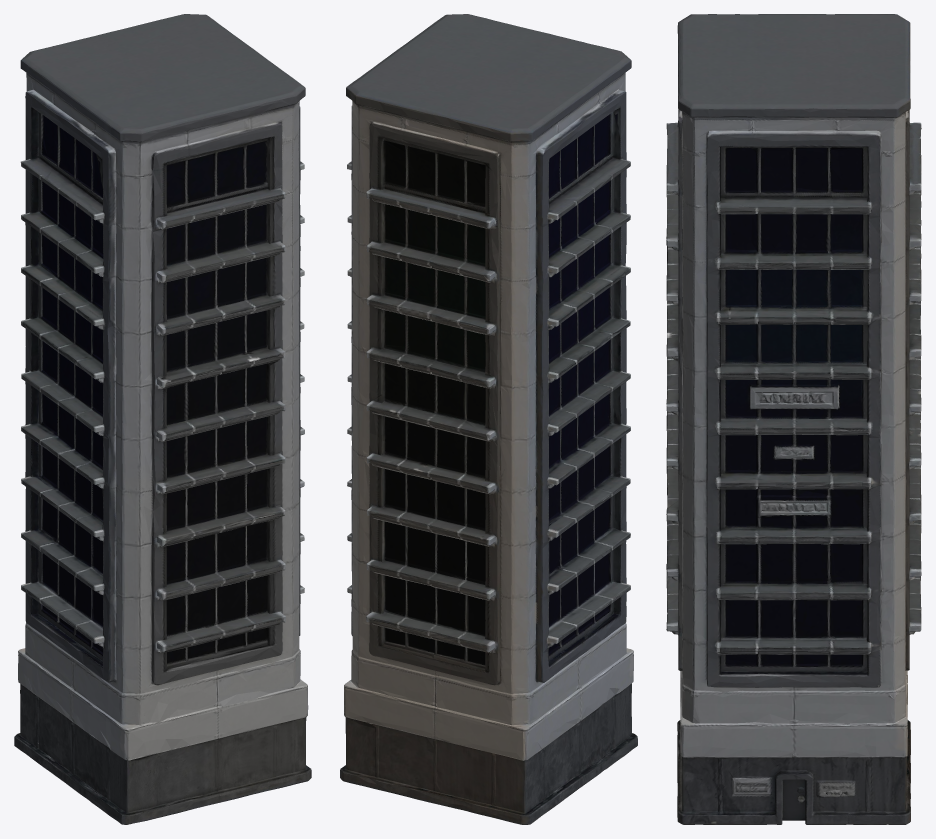
File: building-skyscraper-b.glb
3 renders of one model, left to right at view 1: azimuth 30°, elevation 25°; view 2: azimuth 150°, elevation 25°; view 3: azimuth 270°, elevation 25°, orthographic. The views are drawn at different scales.
Parts seen in each view (by area): view 1: tripo_node_5db8f861-b0da-4f50-a53d-f42e5ff7cbe1; view 2: tripo_node_5db8f861-b0da-4f50-a53d-f42e5ff7cbe1; view 3: tripo_node_5db8f861-b0da-4f50-a53d-f42e5ff7cbe1.
Boxes of the visible parts, left/top/right/bottom form: tripo_node_5db8f861-b0da-4f50-a53d-f42e5ff7cbe1: left=14, top=14, right=311, bottom=824; tripo_node_5db8f861-b0da-4f50-a53d-f42e5ff7cbe1: left=340, top=14, right=637, bottom=824; tripo_node_5db8f861-b0da-4f50-a53d-f42e5ff7cbe1: left=666, top=14, right=921, bottom=824.
Bounding box in the file's own units: 0.3189 × 1 × 0.3221.
Materials: 1 (1 with a texture image).
